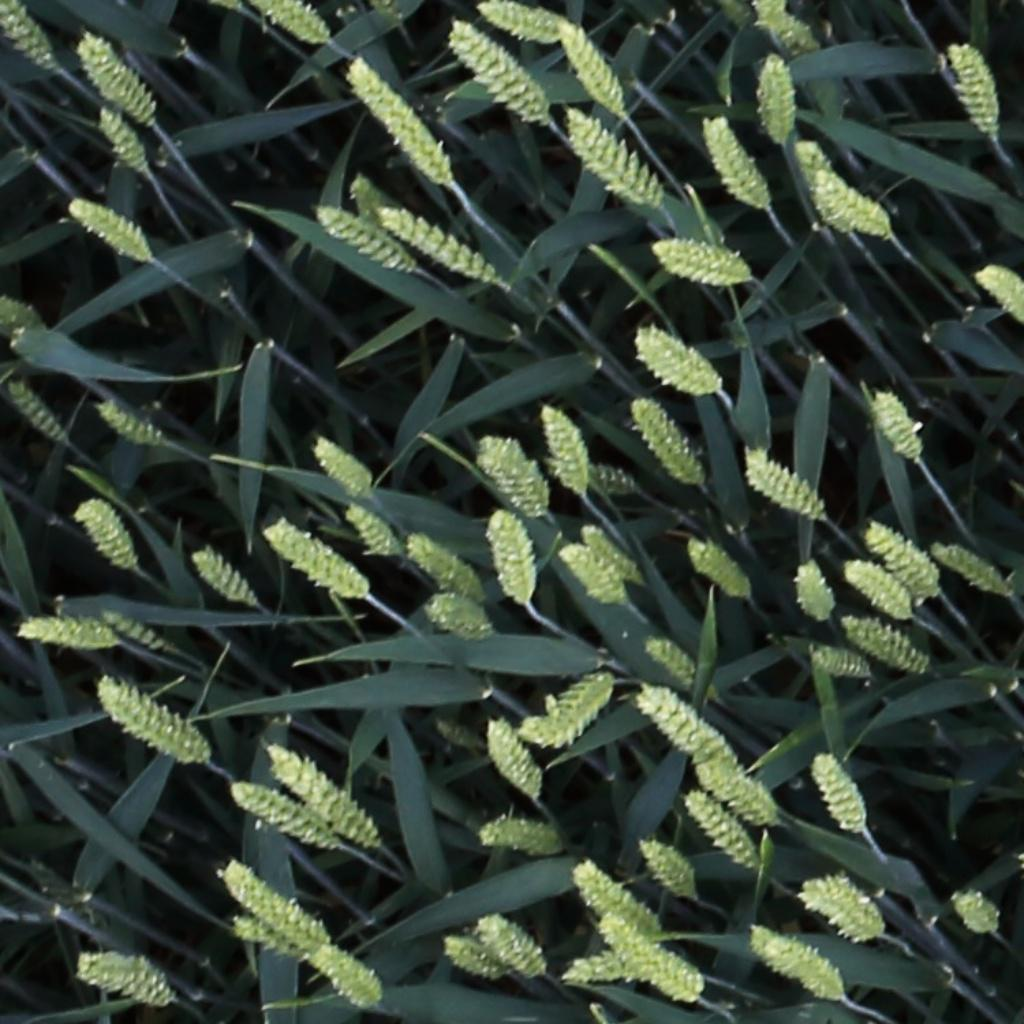0-0: (344, 57, 453, 188), (263, 741, 378, 850), (94, 673, 213, 767), (447, 20, 550, 125), (634, 686, 745, 780), (562, 105, 662, 206), (258, 515, 370, 600), (378, 204, 498, 281), (599, 918, 705, 1004), (219, 865, 326, 947), (550, 15, 629, 121), (228, 785, 346, 853), (572, 859, 667, 937), (76, 35, 157, 126), (699, 109, 771, 211), (626, 393, 704, 487), (749, 925, 844, 1001), (527, 669, 611, 749), (681, 790, 760, 875), (314, 203, 409, 271), (793, 138, 859, 234), (633, 325, 723, 394), (475, 436, 547, 520), (64, 196, 151, 265), (742, 450, 823, 521), (75, 948, 174, 1006), (649, 236, 757, 289), (402, 533, 483, 603), (864, 521, 939, 595), (816, 171, 895, 240), (808, 749, 868, 839), (483, 715, 543, 805), (72, 492, 136, 576), (946, 39, 999, 140), (798, 877, 881, 940), (536, 398, 589, 496), (843, 617, 928, 674), (5, 374, 69, 447), (91, 99, 150, 177), (308, 944, 380, 1007), (487, 505, 531, 608), (554, 542, 627, 603), (869, 386, 925, 465), (187, 546, 256, 610), (477, 916, 544, 980), (696, 770, 775, 823), (0, 0, 57, 73), (755, 55, 798, 151), (16, 616, 121, 655), (931, 543, 1008, 596), (633, 839, 696, 902), (576, 522, 640, 584), (842, 561, 910, 619), (685, 539, 749, 600), (308, 436, 370, 495), (233, 917, 314, 962), (339, 499, 397, 561), (558, 948, 646, 985), (98, 608, 167, 655), (94, 395, 161, 443), (476, 818, 563, 854), (258, 0, 332, 42), (974, 262, 1024, 324), (757, 5, 819, 54), (643, 637, 700, 690), (474, 0, 560, 35), (793, 555, 834, 628), (423, 594, 493, 633), (552, 461, 636, 492), (439, 939, 501, 977), (951, 892, 999, 935), (431, 719, 481, 752), (811, 651, 872, 678)
